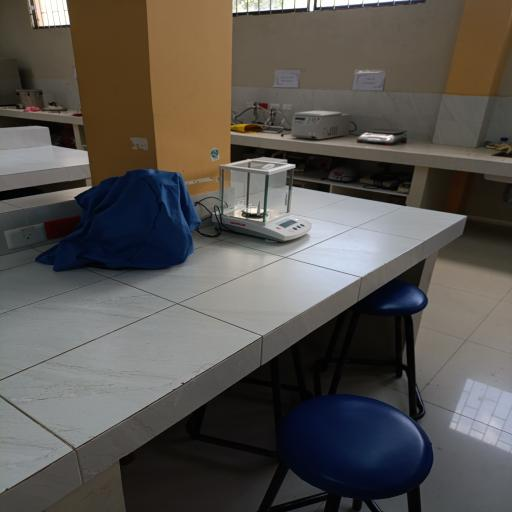Balanza_Analitica_Ohaus: (207, 150, 317, 248)
